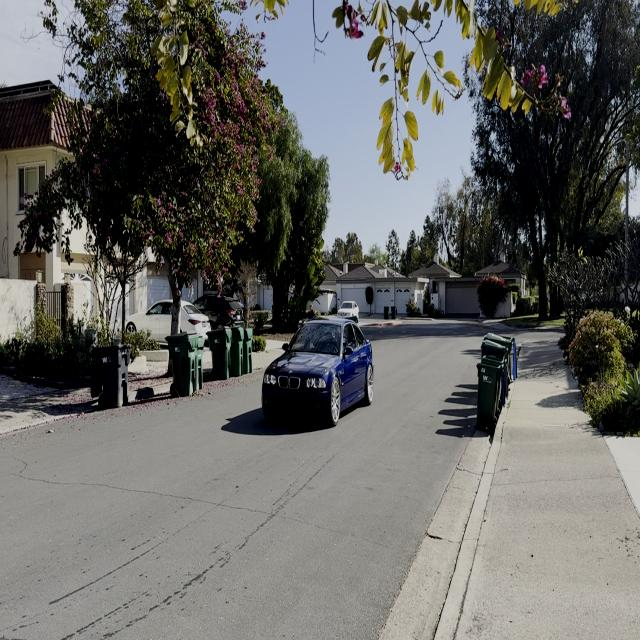Carbeetle: (246, 304, 386, 435)
